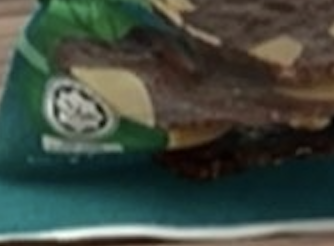halal: (61, 102, 99, 128)
